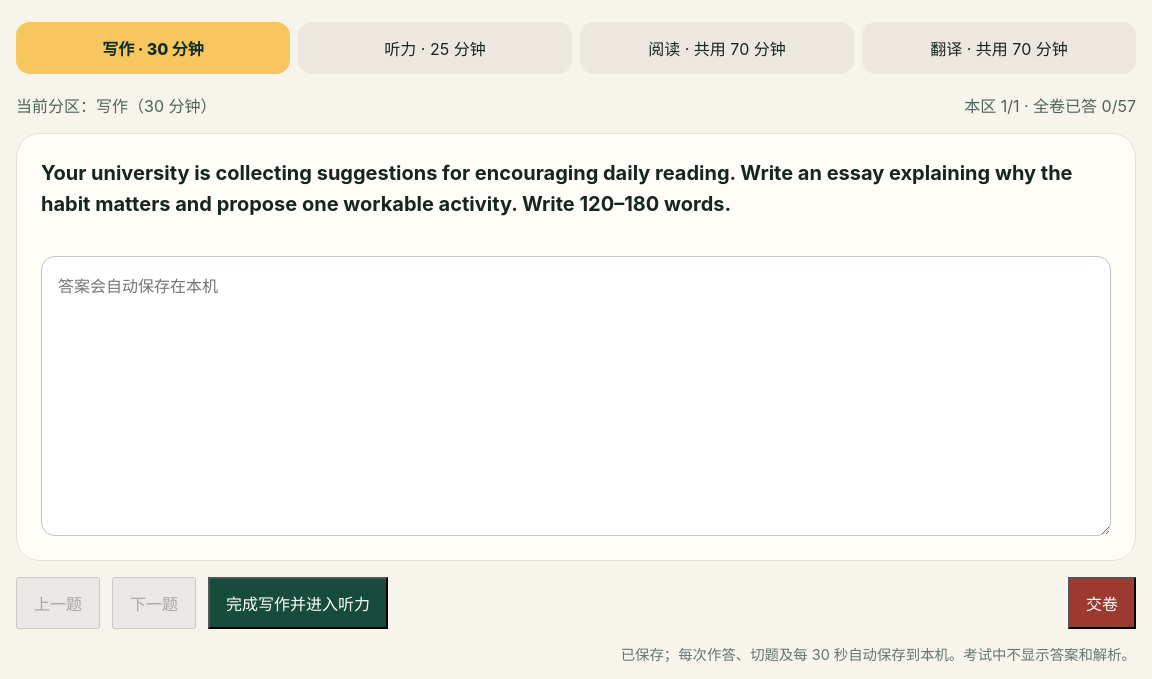
Test case: ExamSession › renders the official section without revealing feedback and submits once on double click
(page scrolled)
Expected: the text "写作 · 30 分钟" is shown, [16, 22, 290, 74]
Double-click the button "交卷" at (1102, 603), box [1068, 577, 1136, 629]
(page scrolled)
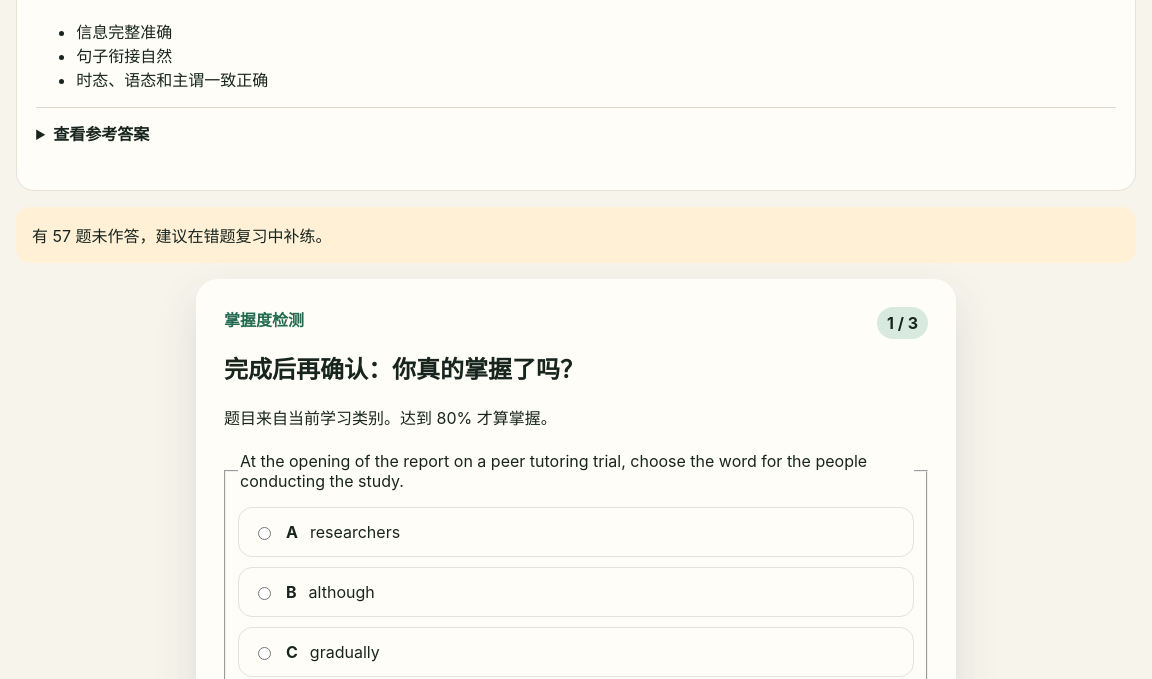
Expected: the text "掌握度检测" is shown, [224, 310, 304, 330]
